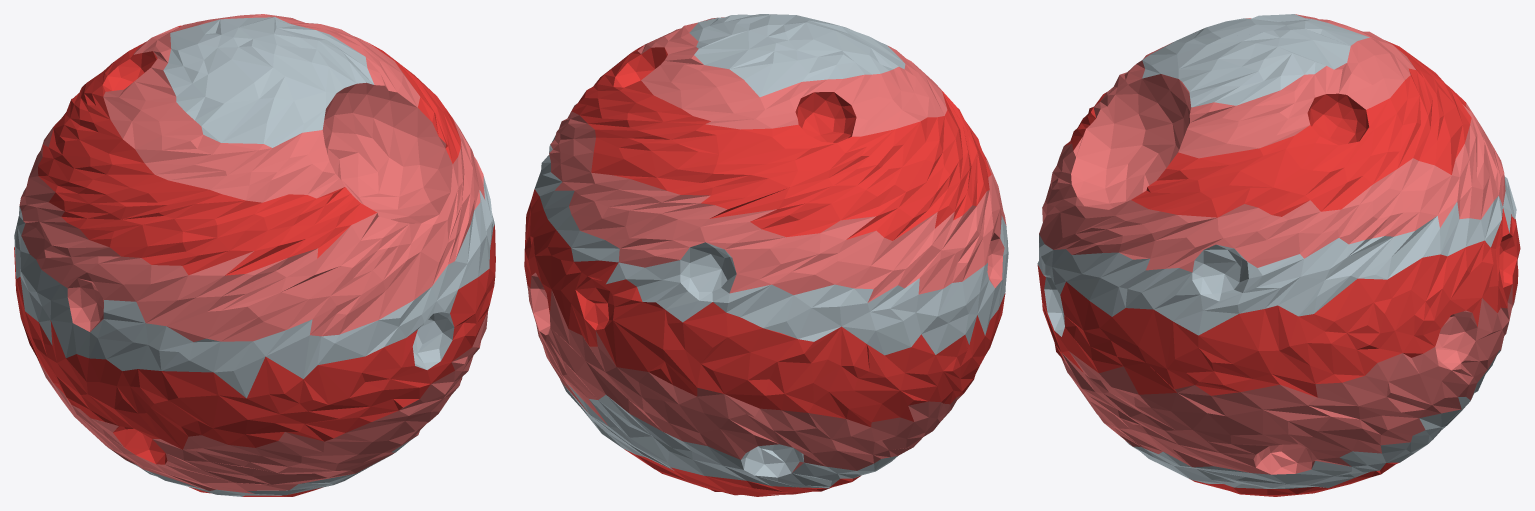
Rendered from Planet_27.glb.
3 views of the same model, side by side, from view 1: azimuth 30°, elevation 25°; view 2: azimuth 150°, elevation 25°; view 3: azimuth 270°, elevation 25° (orthographic).
Parts seen in each view (by area): view 1: Planet_27; view 2: Planet_27; view 3: Planet_27.
Part boxes in pixels (box(x1,y1,x2,y2)): Planet_27: box(14, 14, 495, 496); Planet_27: box(524, 14, 1008, 496); Planet_27: box(1037, 14, 1520, 496).
Size of the model in its own units: 20.07 by 20.12 by 20.14.
1 material, 1 textured.
